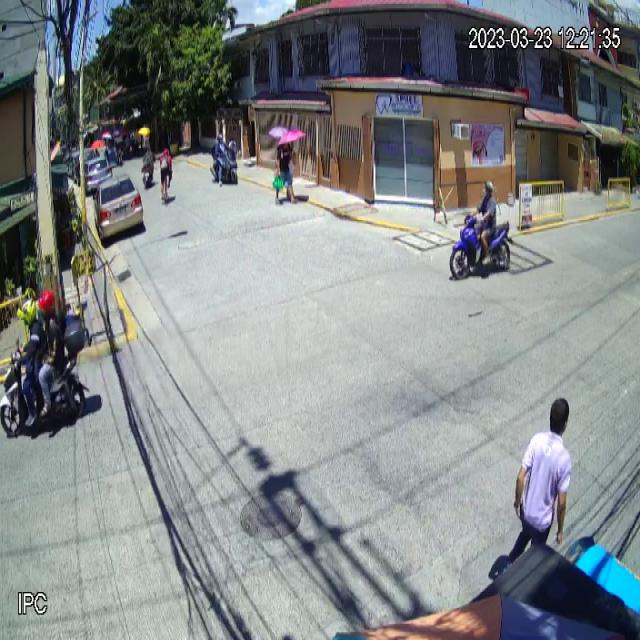Motorcycle: (449, 212, 512, 281)
